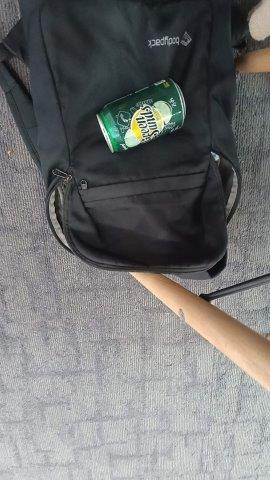kaleng: (96, 78, 185, 153)
